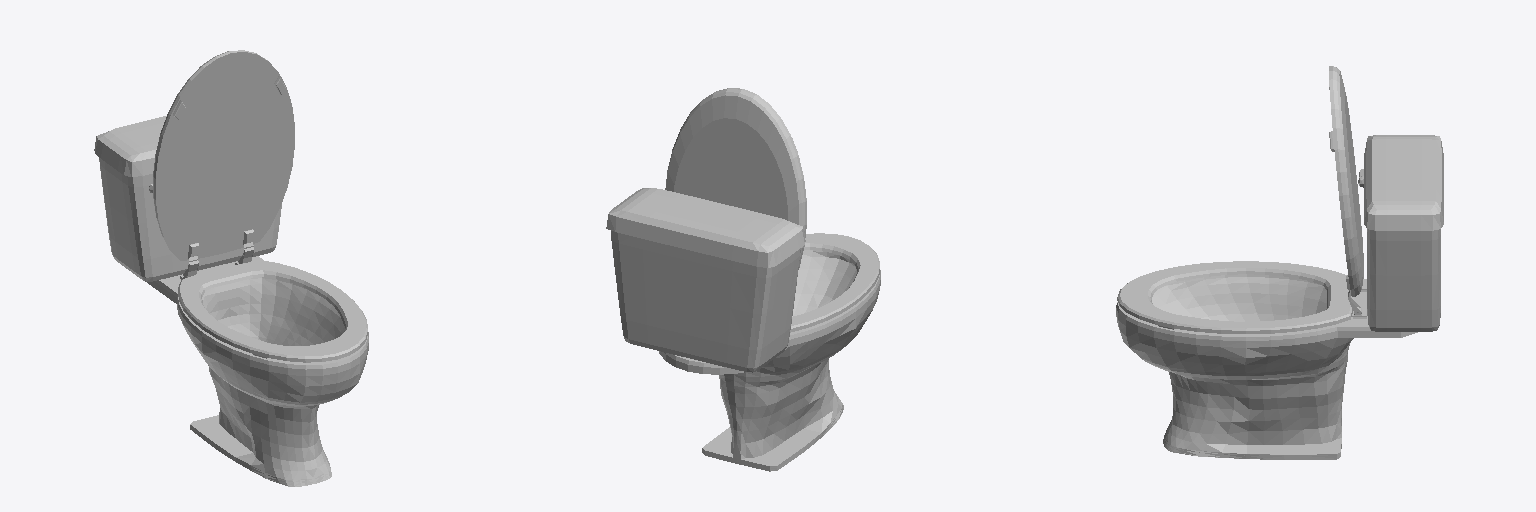
The model's file is toilet.obj.
3 views of the same model, side by side, from view 1: azimuth 30°, elevation 25°; view 2: azimuth 150°, elevation 25°; view 3: azimuth 270°, elevation 25° (orthographic).
Parts seen in each view (by area): view 1: Bowl_Circle, Cover_Circle.002, Seat_Circle.001, Tank_Cube.001, TankCover_Cube.002, Hinges_Circle.003; view 2: Tank_Cube.001, Bowl_Circle, Cover_Circle.002, TankCover_Cube.002, Seat_Circle.001; view 3: Bowl_Circle, TankCover_Cube.002, Tank_Cube.001, Seat_Circle.001, Cover_Circle.002.
Part boxes in pixels (bbox=[...]): Bowl_Circle: bbox=[145, 256, 368, 486]; Cover_Circle.002: bbox=[153, 50, 294, 260]; Seat_Circle.001: bbox=[178, 260, 367, 362]; Tank_Cube.001: bbox=[99, 158, 281, 281]; TankCover_Cube.002: bbox=[94, 116, 166, 176]; Hinges_Circle.003: bbox=[180, 229, 253, 279]; Tank_Cube.001: bbox=[611, 231, 800, 372]; Bowl_Circle: bbox=[659, 250, 880, 471]; Cover_Circle.002: bbox=[665, 88, 806, 269]; TankCover_Cube.002: bbox=[606, 188, 805, 267]; Seat_Circle.001: bbox=[790, 233, 879, 332]; Bowl_Circle: bbox=[1116, 274, 1417, 459]; TankCover_Cube.002: bbox=[1364, 135, 1443, 230]; Tank_Cube.001: bbox=[1367, 229, 1440, 331]; Seat_Circle.001: bbox=[1117, 261, 1353, 333]; Cover_Circle.002: bbox=[1329, 66, 1363, 296].
Size of the model in its own units: 0.5244 by 1.1 by 0.8784.